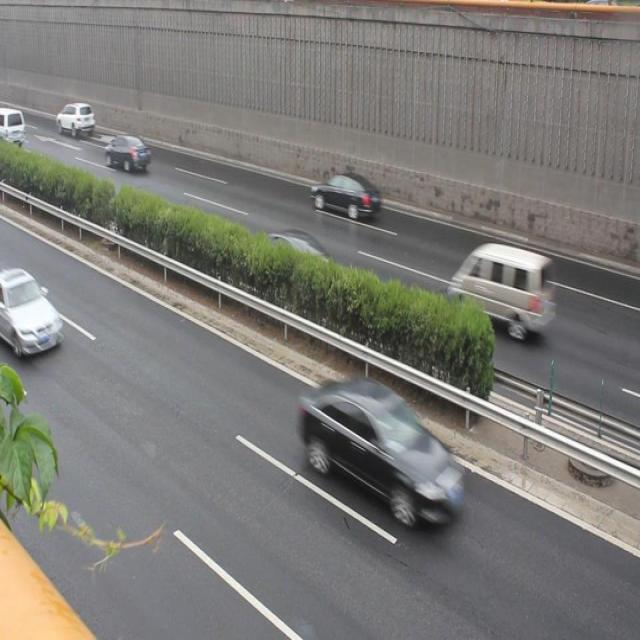car: (300, 375, 463, 526), (0, 268, 62, 360), (247, 227, 333, 289), (311, 170, 379, 221), (104, 132, 151, 176)
truck: (446, 243, 555, 334)
